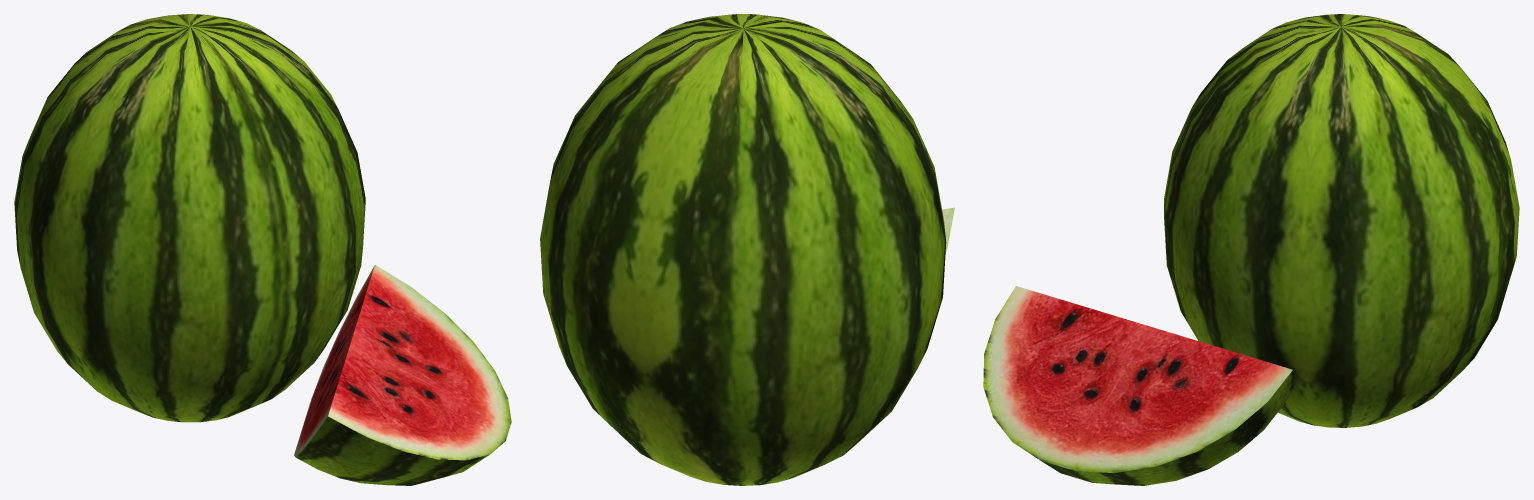
File: Watermelon.FBX
3 renders of one model, left to right at view 1: azimuth 30°, elevation 25°; view 2: azimuth 150°, elevation 25°; view 3: azimuth 270°, elevation 25°, orthographic. The views are drawn at different scales.
Parts seen in each view (by area): view 1: Sphere001, Sphere002, Object001; view 2: Sphere001; view 3: Sphere001, Sphere002, Object001.
Part boxes in pixels (box(x1,y1,x2,y2)): Sphere001: box(14, 14, 365, 422); Sphere002: box(294, 265, 511, 460); Object001: box(296, 416, 489, 485); Sphere001: box(540, 14, 946, 485); Sphere001: box(1164, 14, 1519, 427); Sphere002: box(983, 286, 1292, 472); Object001: box(1041, 370, 1293, 485).
Size of the model in its own units: 55.33 by 56.06 by 69.29.
2 materials, 2 textured.
